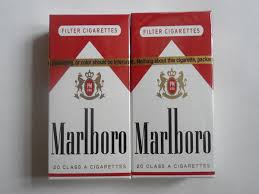marlboro: (50, 17, 131, 178), (133, 12, 207, 177)
